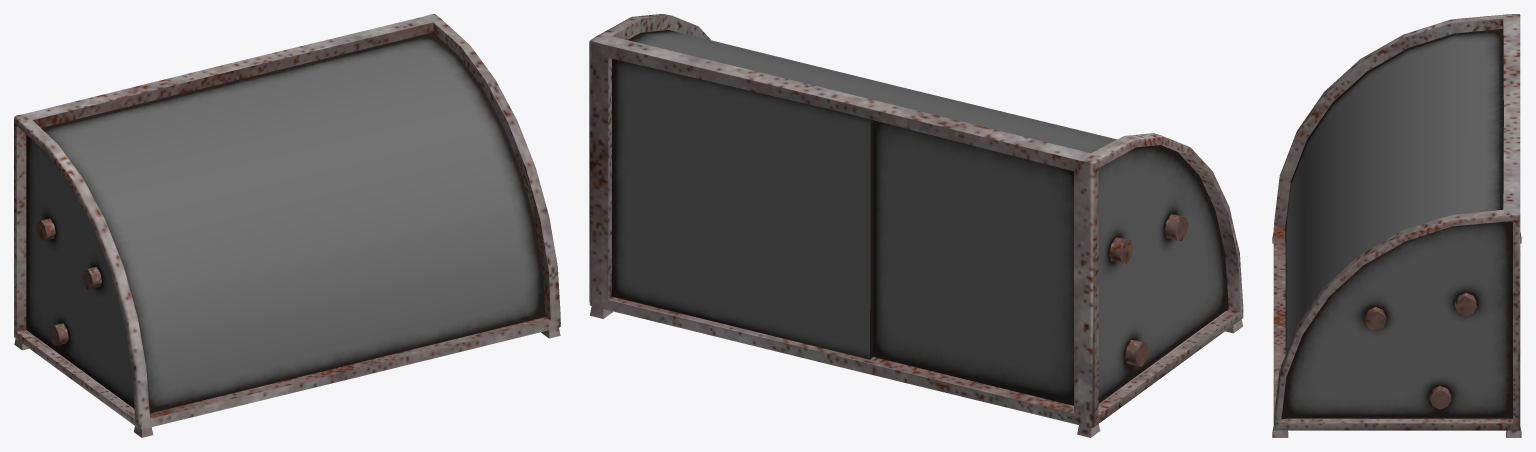
File: Snacks_Showcase.fbx
The picture shows the model from 3 angles, left to right: view 1: azimuth 30°, elevation 25°; view 2: azimuth 150°, elevation 25°; view 3: azimuth 270°, elevation 25°; orthographic projection. The views are drawn at different scales.
Parts seen in each view (by area): view 1: Stove, Inside; view 2: Stove, Inside; view 3: Stove, Inside.
Part boxes in pixels (x1,y1,x2,y2): Stove: [14, 14, 560, 437]; Inside: [35, 218, 101, 345]; Stove: [589, 14, 1243, 437]; Inside: [1109, 214, 1188, 366]; Stove: [1272, 14, 1521, 437]; Inside: [1364, 293, 1476, 409].
Bounding box in the file's own units: 71.48 × 36.95 × 37.22.
